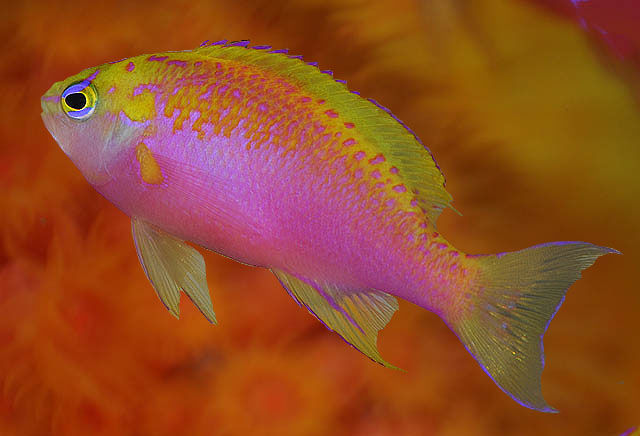fish: (40, 39, 625, 415)
